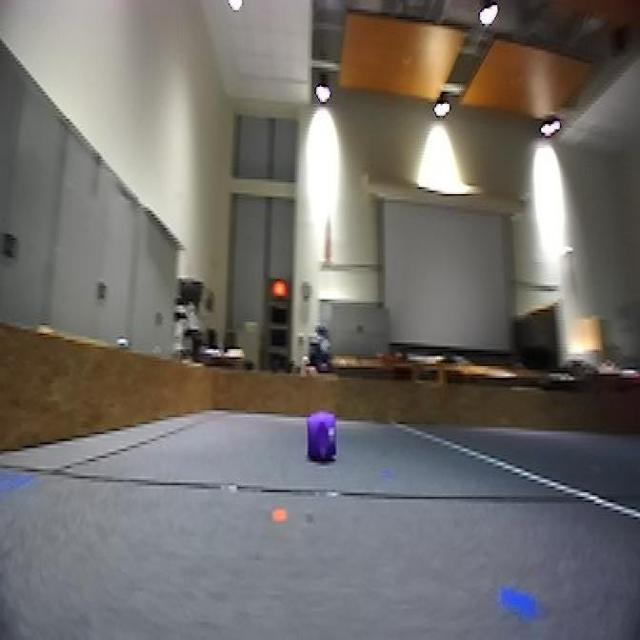frc_cube: (306, 412, 339, 468)
